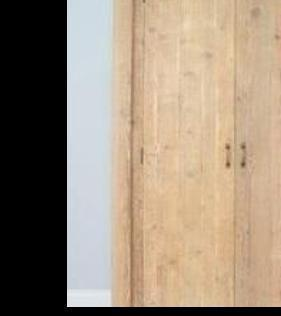Armario: (103, 0, 281, 316)
